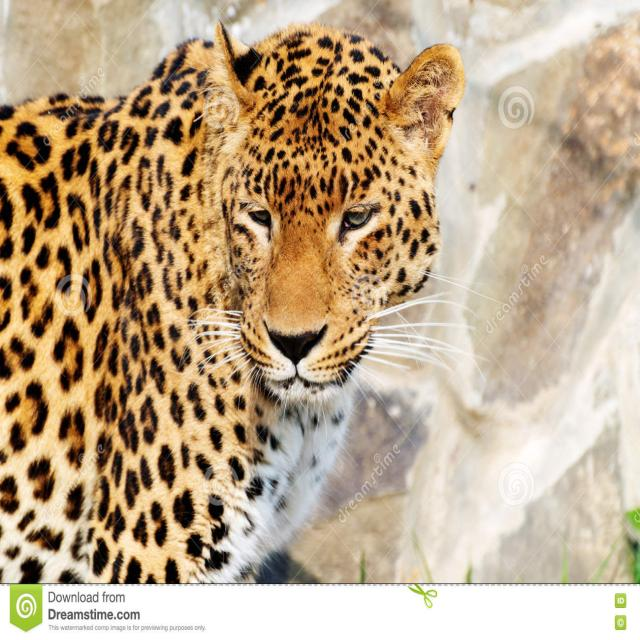Jaguar: (0, 15, 470, 575)
